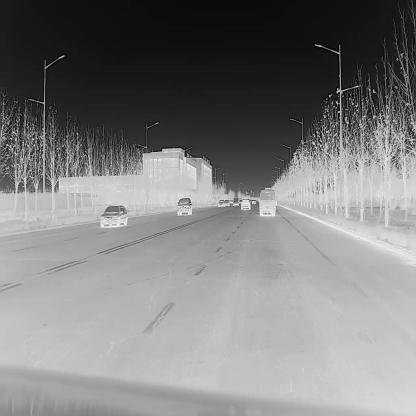car: (99, 204, 128, 228), (176, 197, 192, 215), (240, 198, 251, 209), (217, 198, 225, 207), (222, 198, 230, 206), (232, 198, 239, 205), (250, 198, 256, 205), (228, 199, 234, 204), (238, 199, 243, 204)
truck: (258, 186, 277, 216)
